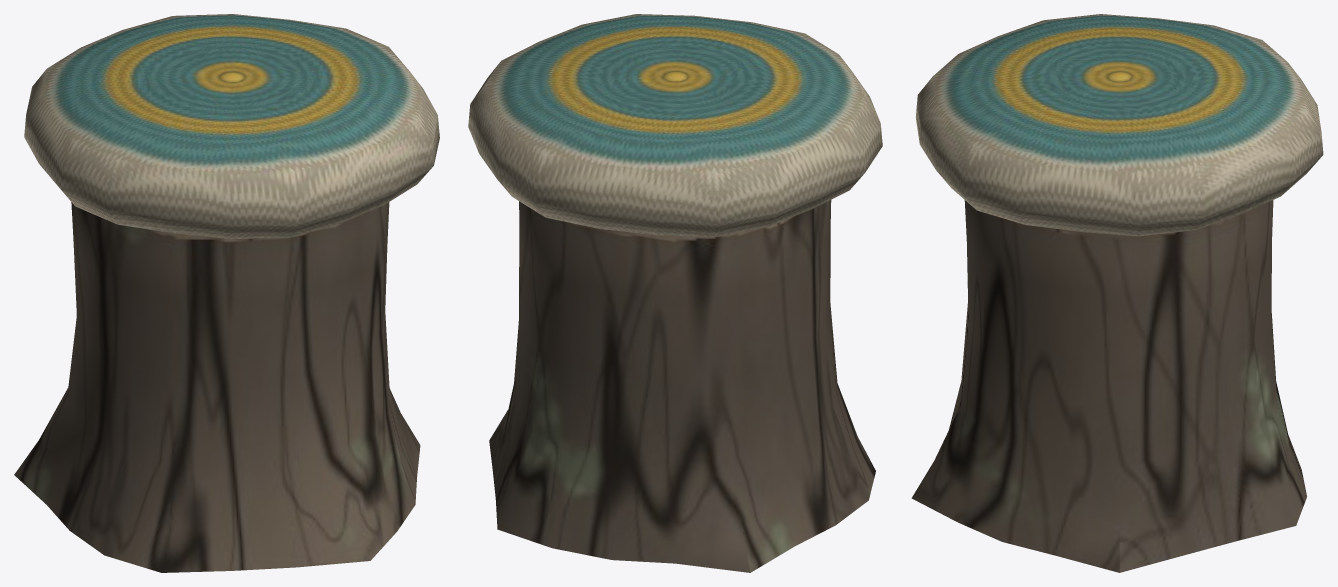
File: fm_stool_stump_cushion.glb
The picture shows the model from 3 angles, left to right: view 1: azimuth 30°, elevation 25°; view 2: azimuth 150°, elevation 25°; view 3: azimuth 270°, elevation 25°; orthographic projection.
Parts seen in each view (by area): view 1: fm_stool_stump_cushion; view 2: fm_stool_stump_cushion; view 3: fm_stool_stump_cushion.
Boxes of the visible parts, bbox=[...] form: fm_stool_stump_cushion: bbox=[14, 14, 439, 572]; fm_stool_stump_cushion: bbox=[468, 14, 882, 572]; fm_stool_stump_cushion: bbox=[911, 14, 1323, 572].
Bounding box in the file's own units: 0.4215 × 0.453 × 0.4145.
Materials: 1 (1 with a texture image).
